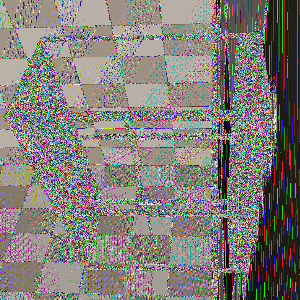Rack: (25, 26, 298, 268)
